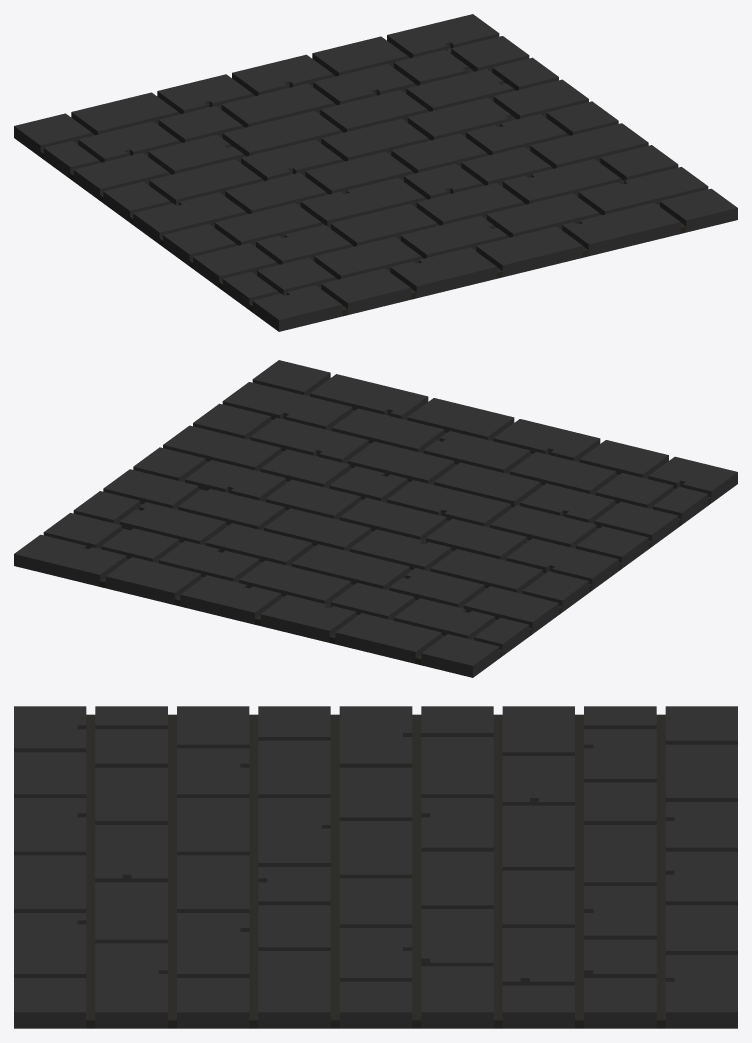
File: FloorStone.obj
3 views of the same model, one above another, from view 1: azimuth 30°, elevation 25°; view 2: azimuth 150°, elevation 25°; view 3: azimuth 270°, elevation 25° (orthographic). The views are drawn at different scales.
Bounding box in the file's own units: 8 × 0.2 × 8.
Materials: 1 (1 with a texture image).
